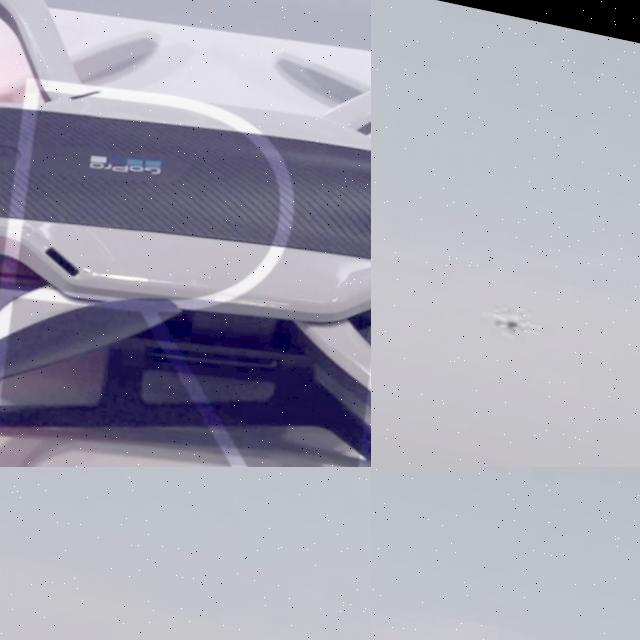drone: (0, 0, 371, 467)
